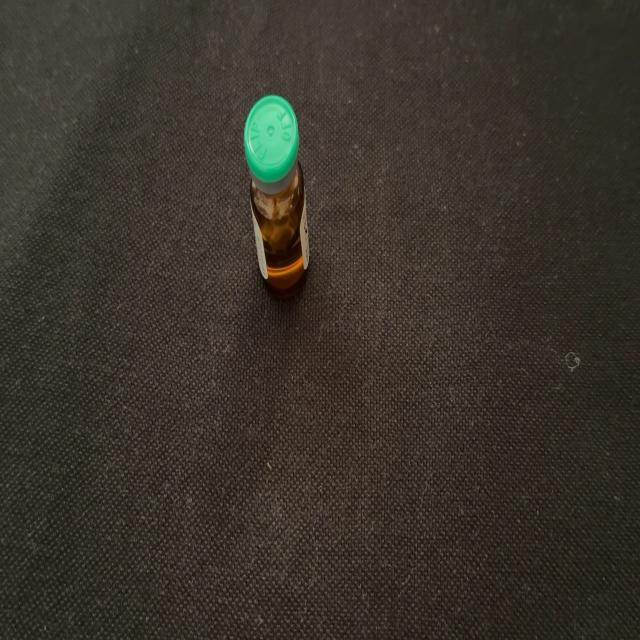midazolm: (244, 98, 308, 294)
